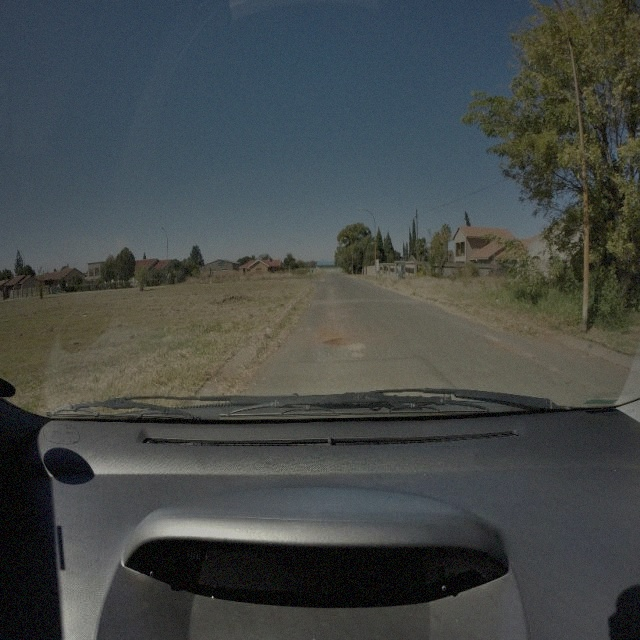pothole: (321, 335, 354, 347)
